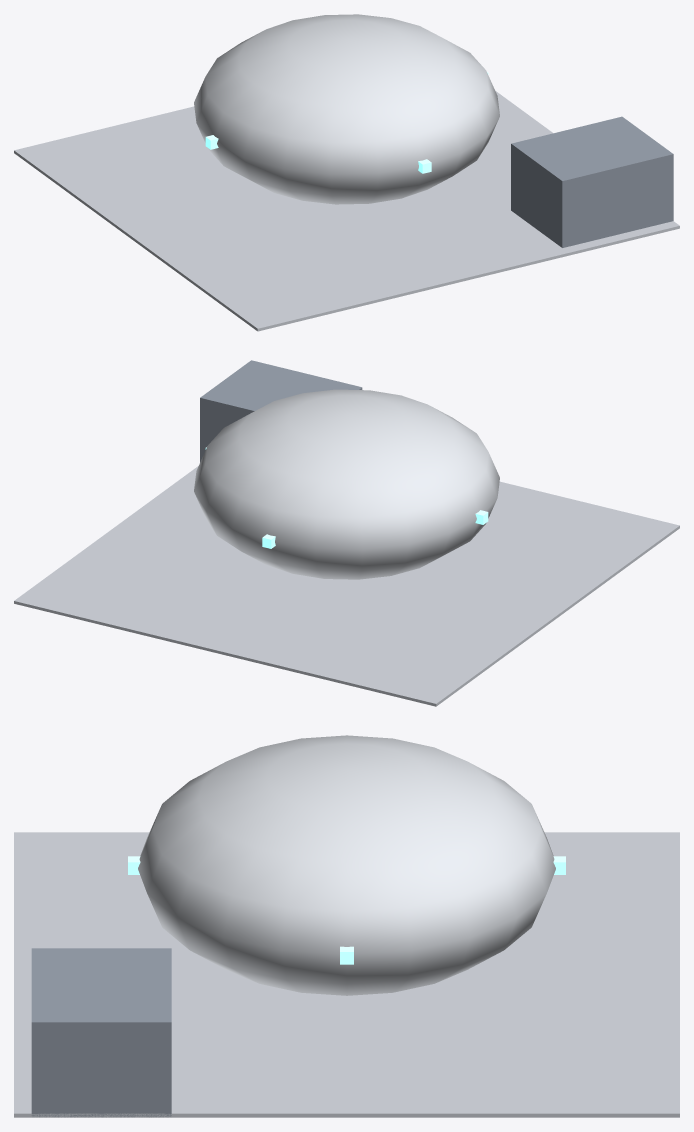
Rendered from fusion_plant.glb.
3 renders of one model, top to bottom at view 1: azimuth 30°, elevation 25°; view 2: azimuth 150°, elevation 25°; view 3: azimuth 270°, elevation 25°, orthographic. The views are drawn at different scales.
Parts seen in each view (by area): view 1: Pad, Torus, Hall; view 2: Pad, Torus, Hall; view 3: Pad, Torus, Hall.
Boxes of the visible parts, x1,y1,x2,y2 form: Pad: (14,90,679,331); Torus: (194,14,499,204); Hall: (511,116,673,247); Pad: (14,466,679,706); Torus: (194,389,499,579); Hall: (200,360,362,462); Pad: (14,832,679,1117); Torus: (138,735,555,995); Hall: (31,948,171,1117).
Size of the model in its own units: 3.8 by 1.3 by 3.8.
